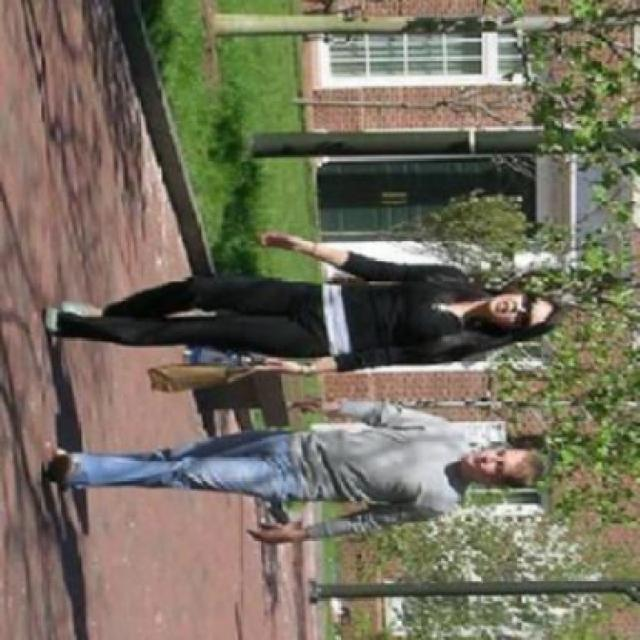Person: (37, 218, 566, 372), (46, 397, 546, 545)
